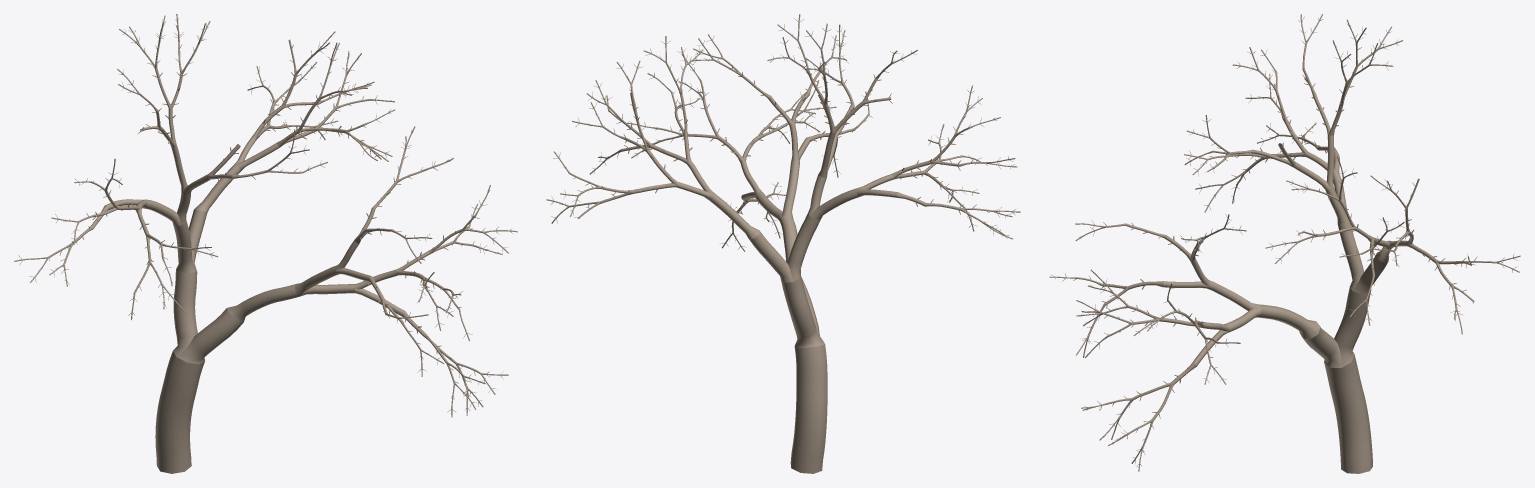
File: tree_dead.fbx
The picture shows the model from 3 angles, left to right: view 1: azimuth 30°, elevation 25°; view 2: azimuth 150°, elevation 25°; view 3: azimuth 270°, elevation 25°; orthographic projection. The views are drawn at different scales.
Parts seen in each view (by area): view 1: treeBare1Main; view 2: treeBare1Main; view 3: treeBare1Main.
Boxes of the visible parts, box(x1,y1,x2,y2) form: treeBare1Main: box(14, 14, 517, 473); treeBare1Main: box(546, 14, 1020, 473); treeBare1Main: box(1049, 14, 1520, 473).
Bounding box in the file's own units: 16.81 × 16.81 × 16.26.
